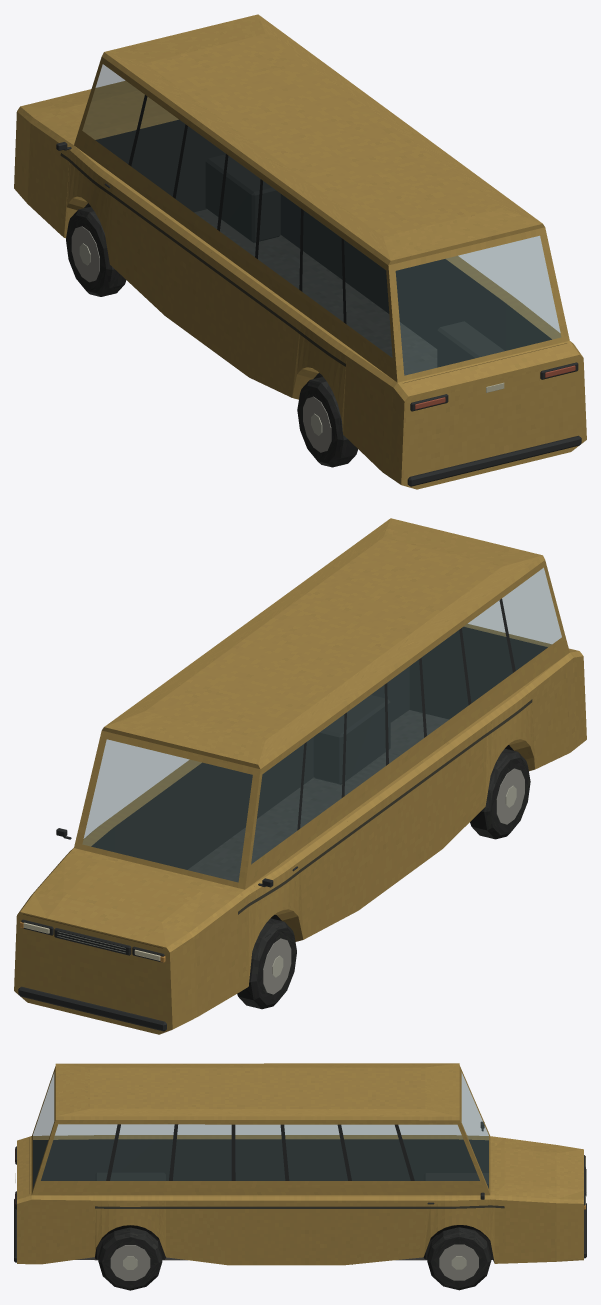
The model's file is vehicle_school_bus.glb.
3 views of the same model, one above another, from view 1: azimuth 30°, elevation 25°; view 2: azimuth 150°, elevation 25°; view 3: azimuth 270°, elevation 25° (orthographic). The views are drawn at different scales.
Visible parts, largest first — view 1: closed_body, roof_body, glazing; view 2: closed_body, roof_body, glazing; view 3: closed_body, glazing, roof_body.
Boxes of the visible parts, bbox=[...] form: closed_body: bbox=[14, 57, 586, 489]; roof_body: bbox=[102, 14, 544, 265]; glazing: bbox=[82, 64, 561, 375]; closed_body: bbox=[14, 560, 586, 1034]; roof_body: bbox=[102, 518, 544, 769]; glazing: bbox=[82, 568, 561, 882]; closed_body: bbox=[14, 1065, 586, 1290]; glazing: bbox=[33, 1073, 488, 1188]; roof_body: bbox=[55, 1063, 459, 1120].
Bounding box in the file's own units: 2.69 × 2.88 × 8.77.
2 materials, 2 textured.
